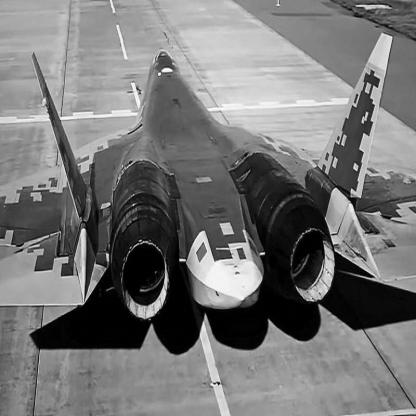Su57: (2, 33, 416, 324)
